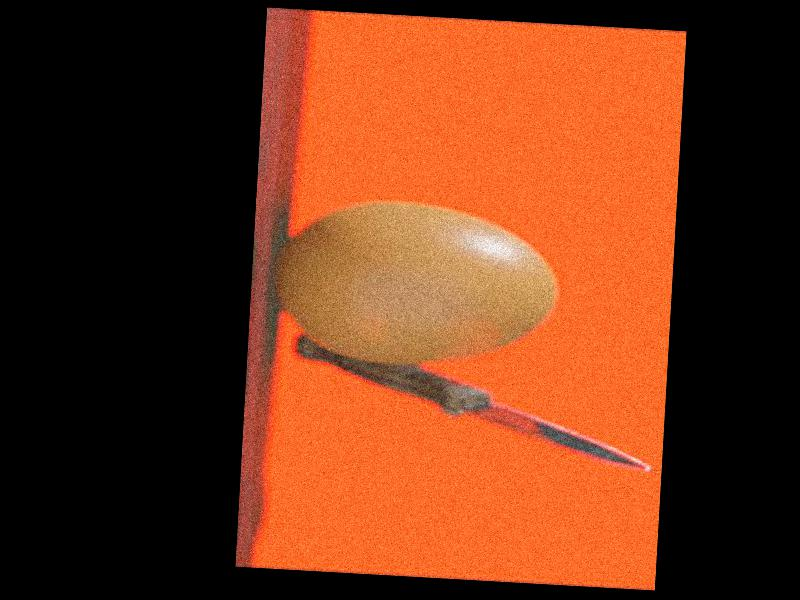Eggs: (277, 197, 558, 371)
